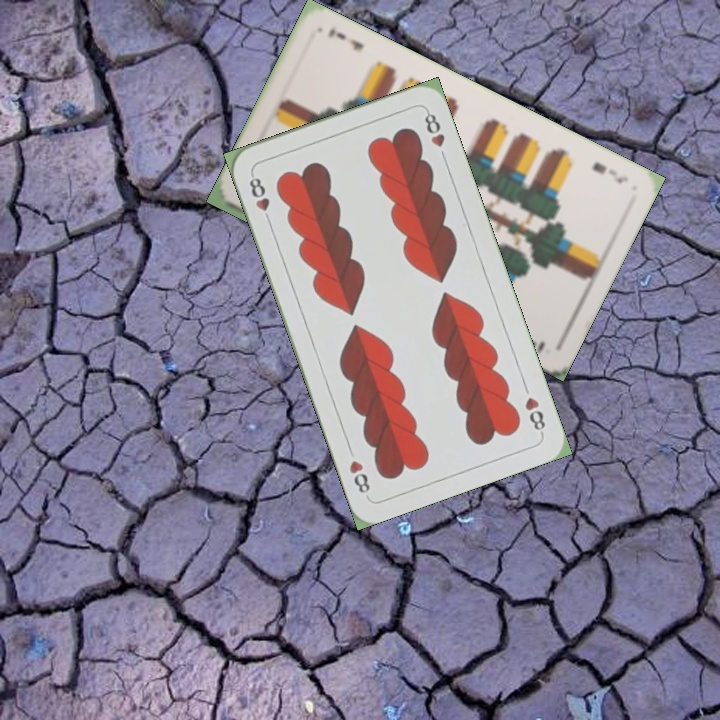E7: (588, 158, 631, 187)
H8: (245, 169, 274, 226), (520, 393, 548, 437)
